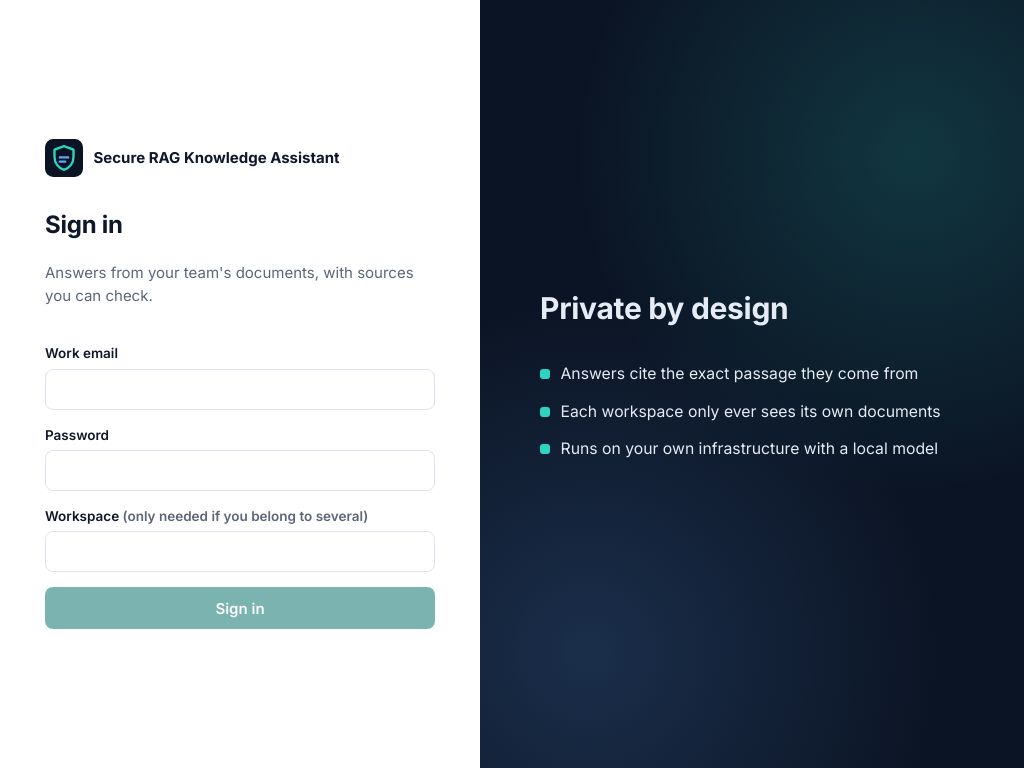
Scenario: login › signs in, sends the workspace and lands on the chat page
Type "admin@northwind.example" into the field labelled "Work email" at (240, 389), box x1=45 y1=369 x2=435 y2=410
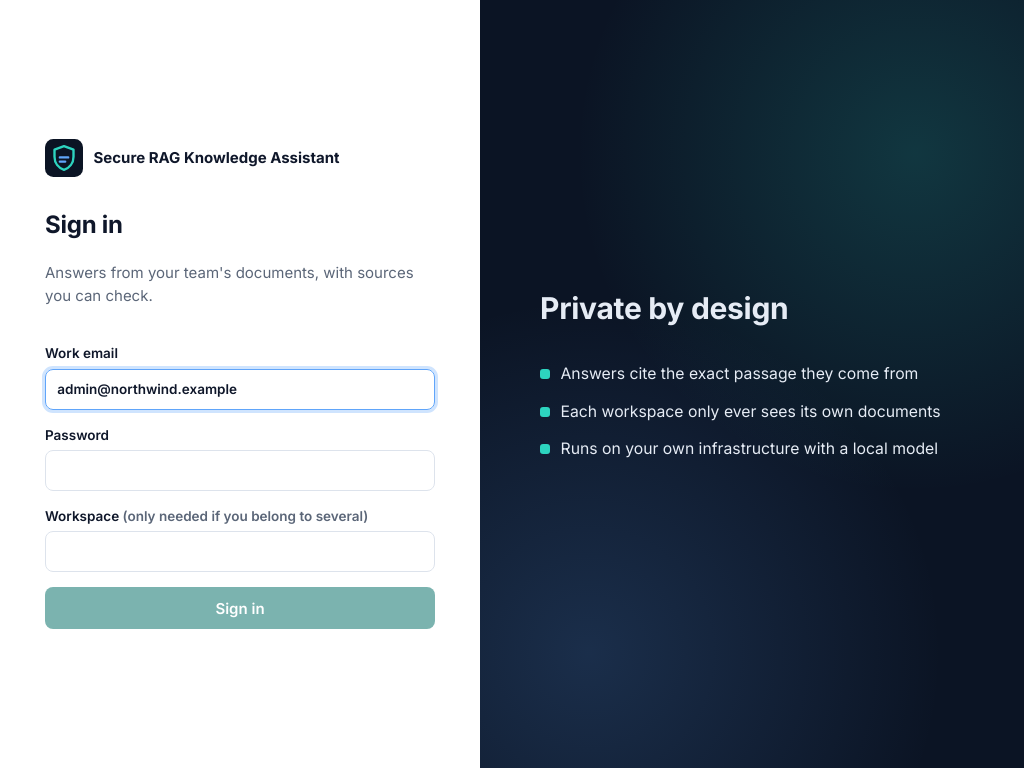
Type "a-long-password" into the password field labelled "Password" at (240, 471), box x1=45 y1=450 x2=435 y2=491
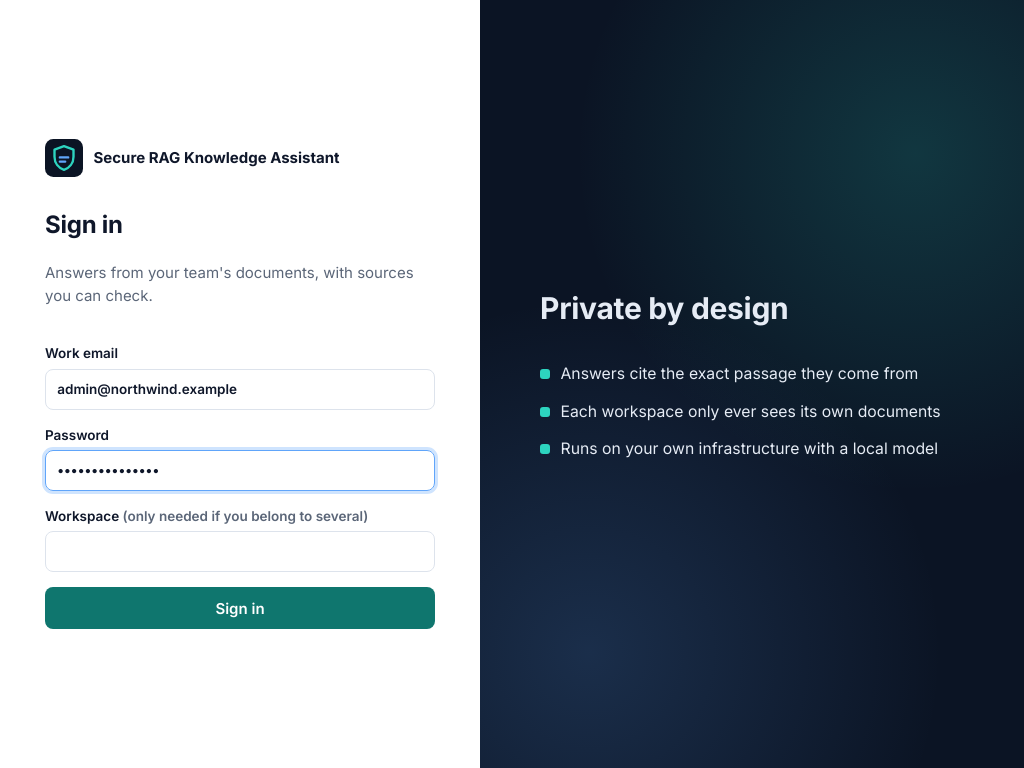
Type "northwind" into the field labelled "Workspace (only needed if you belong to several)" at (240, 552), box x1=45 y1=532 x2=435 y2=572
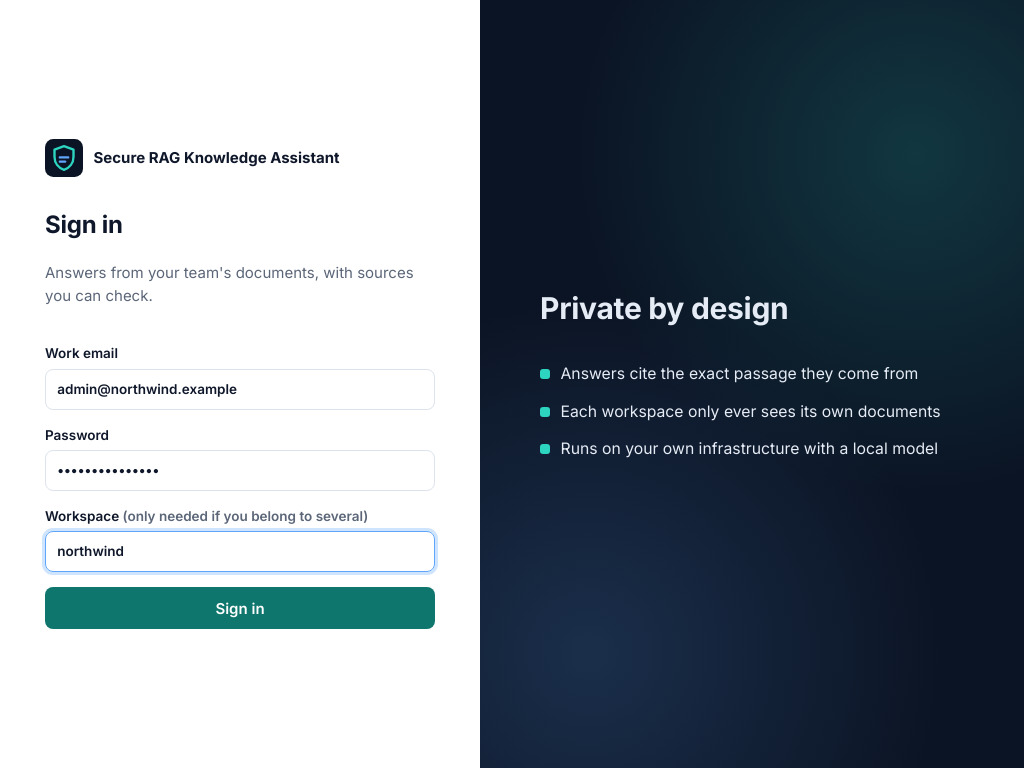
Click the button "Sign in" at (240, 608), box x1=45 y1=587 x2=435 y2=629
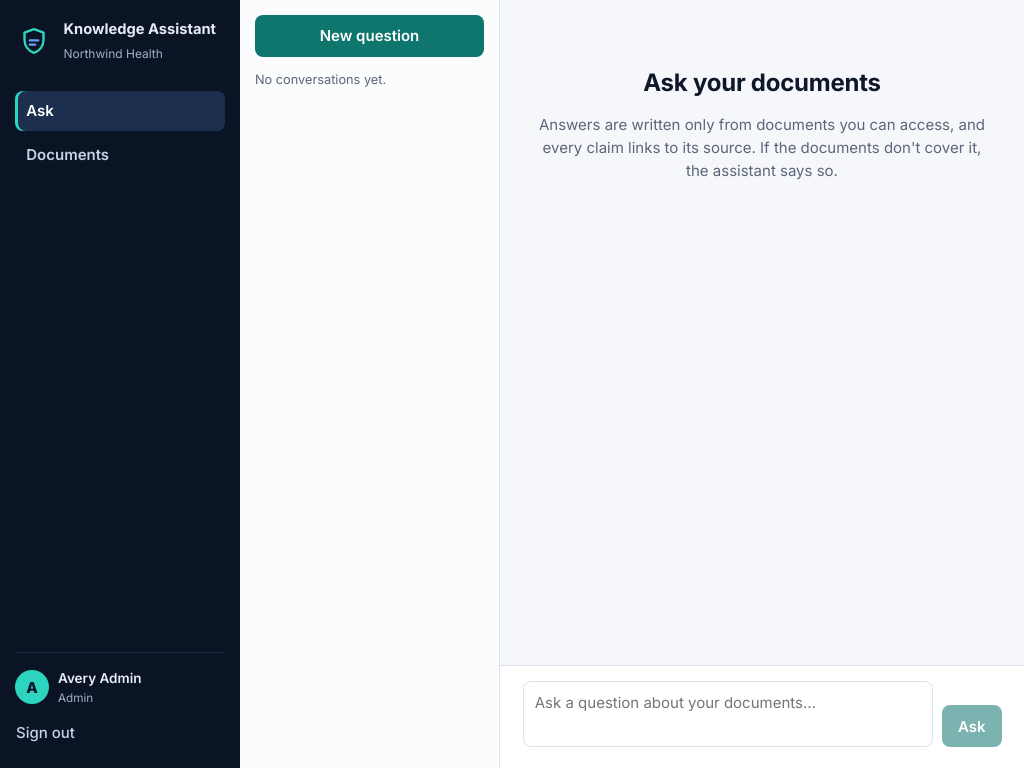
Expected: the heading "Ask your documents" is shown, x1=643 y1=68 x2=881 y2=96
Expected: the text "Northwind Health" is shown, x1=64 y1=46 x2=163 y2=61
Expected: the text "Admin" is shown, x1=58 y1=691 x2=93 y2=705
